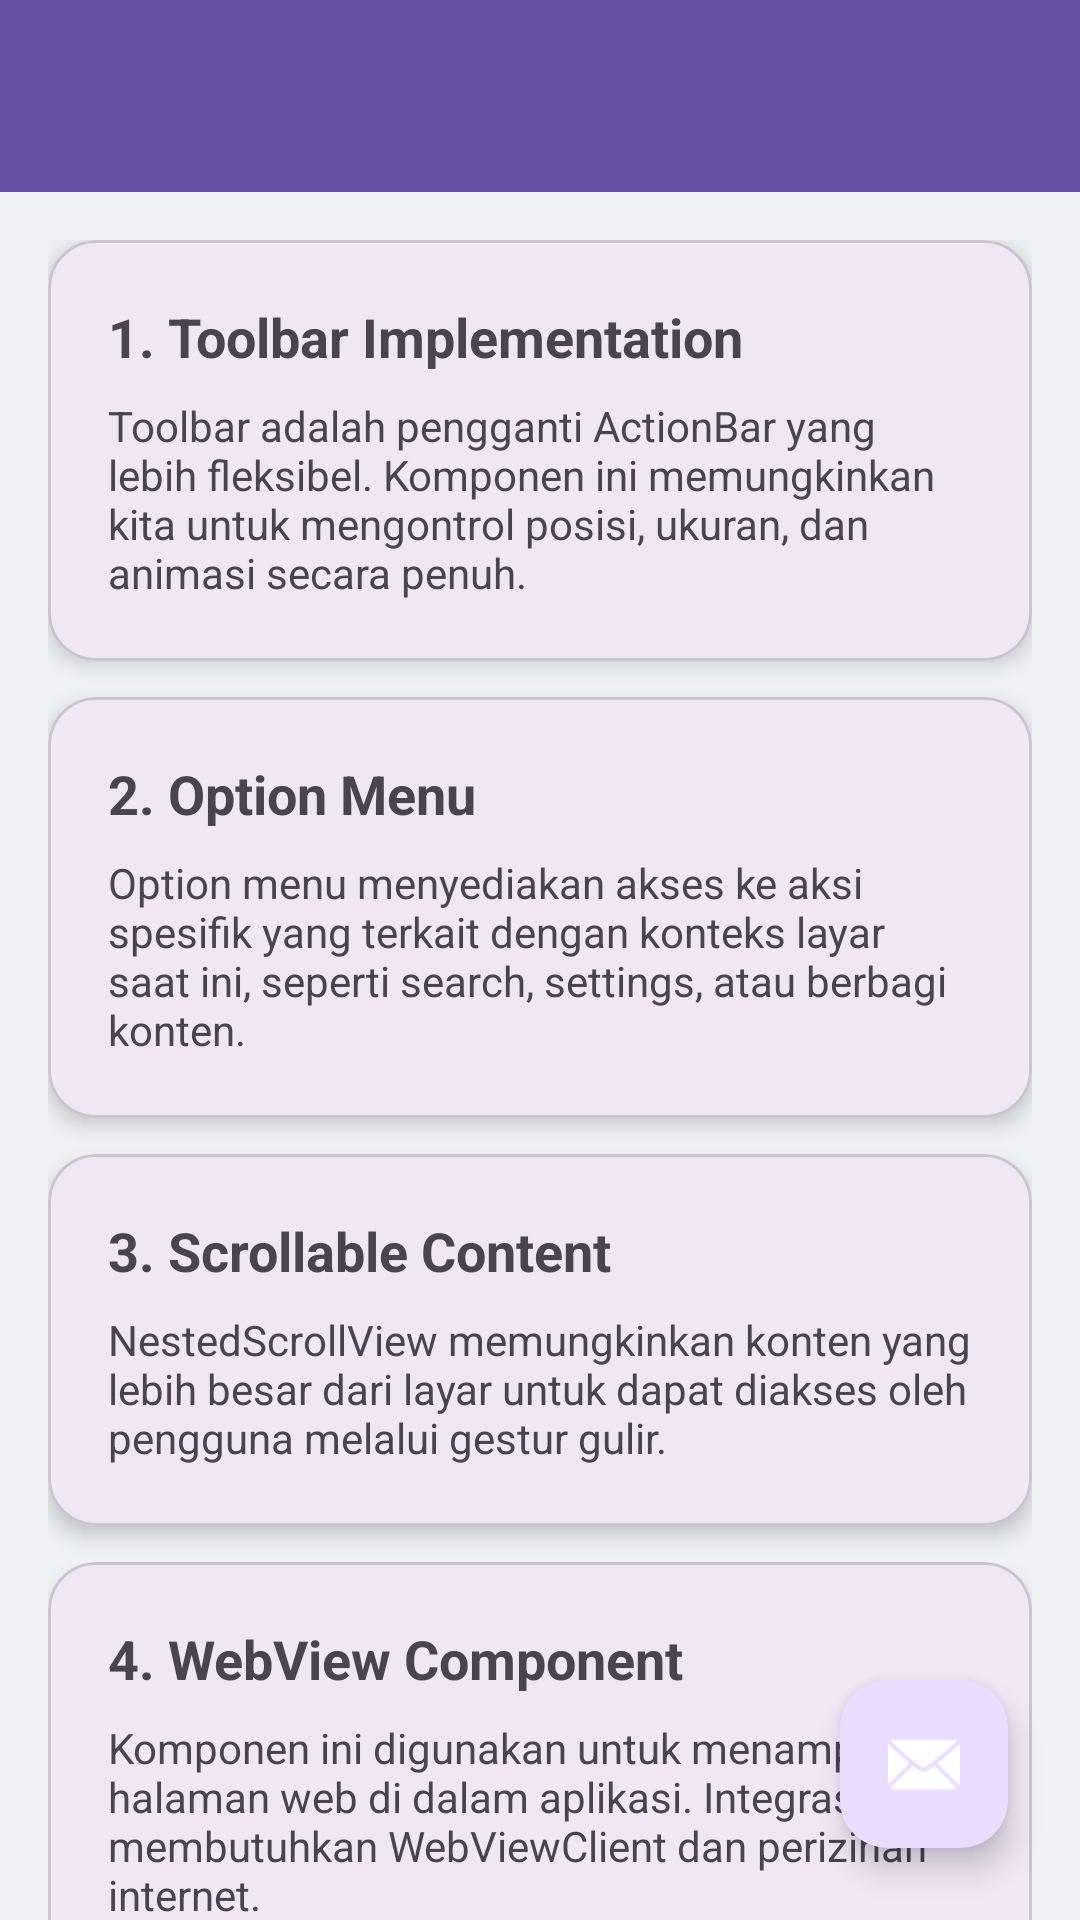

Point at icon controls on the screen. Image size 1080px×1920px, points as (x=x, y=y).
email: (x=924, y=1764)
